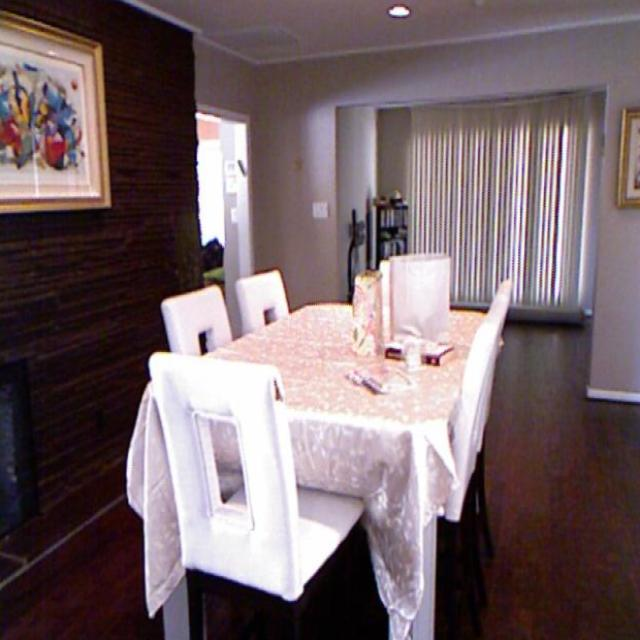obstacle: (118, 252, 520, 604)
